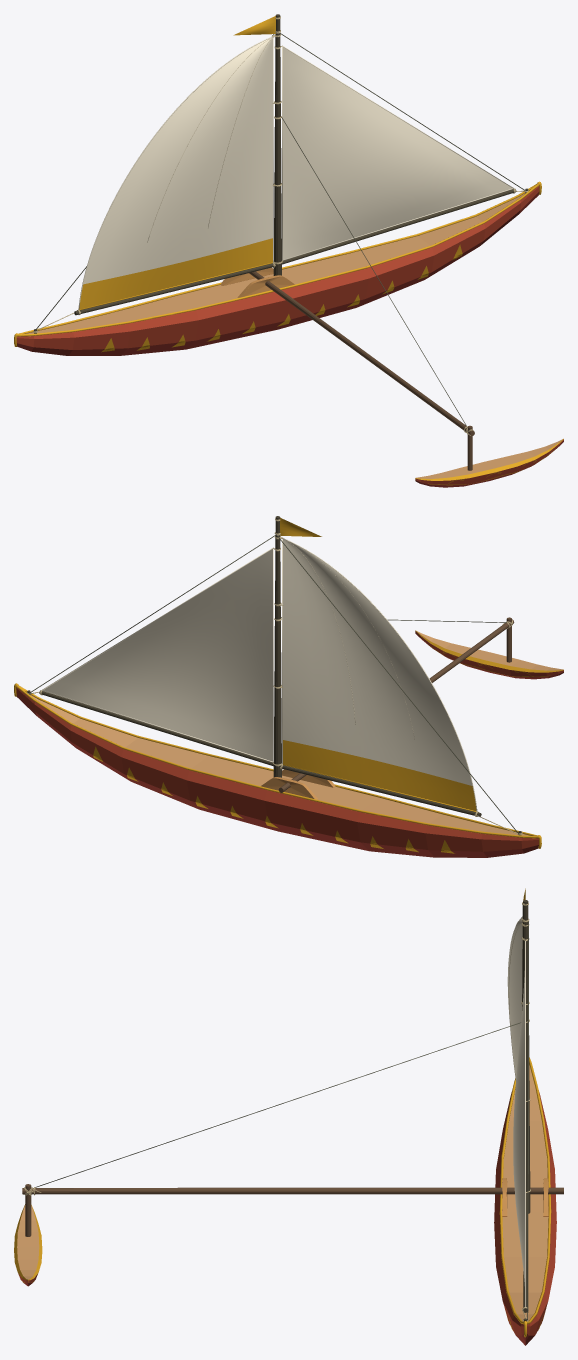
The model's file is 3d-jong-btam.glb.
The picture shows the model from 3 angles, top to bottom: view 1: azimuth 30°, elevation 25°; view 2: azimuth 150°, elevation 25°; view 3: azimuth 270°, elevation 25°; orthographic projection. The views are drawn at different scales.
Visible parts, largest first — view 1: Layar_Utama, Layar_Depan, Badan_Jong, Bibir_Lambung_Kuning, Pelampung, Tiang, Batang_Penyeimbang, Layar_Utama_Tepi, Tali_Pengikat, Batang_Layar_Depan, Layar_Depan_Tepi, Batang_Layar_Utama (+1 smaller); view 2: Layar_Utama, Layar_Depan, Badan_Jong, Bibir_Lambung_Kuning, Pelampung, Tiang, Tali_Pengikat, Layar_Utama_Tepi, Batang_Layar_Depan, Layar_Depan_Tepi, Batang_Layar_Utama, Motif_Lambung_Kanan (+2 smaller); view 3: Badan_Jong, Batang_Penyeimbang, Layar_Depan, Layar_Utama, Bibir_Lambung_Kuning, Pelampung, Tali_Pengikat, Tiang.
Part boxes in pixels (bbox=[...]): Layar_Utama: bbox=[79, 37, 272, 309]; Layar_Depan: bbox=[283, 47, 512, 259]; Badan_Jong: bbox=[16, 186, 539, 355]; Bibir_Lambung_Kuning: bbox=[14, 181, 541, 346]; Pelampung: bbox=[415, 438, 563, 487]; Tiang: bbox=[273, 14, 281, 275]; Batang_Penyeimbang: bbox=[249, 271, 474, 435]; Layar_Utama_Tepi: bbox=[78, 36, 273, 310]; Tali_Pengikat: bbox=[36, 33, 524, 426]; Batang_Layar_Depan: bbox=[282, 189, 516, 264]; Layar_Depan_Tepi: bbox=[282, 45, 513, 260]; Batang_Layar_Utama: bbox=[74, 263, 275, 315]; Layar_Utama: bbox=[283, 539, 476, 810]; Layar_Depan: bbox=[43, 549, 272, 761]; Badan_Jong: bbox=[16, 687, 538, 857]; Bibir_Lambung_Kuning: bbox=[14, 683, 541, 848]; Pelampung: bbox=[415, 630, 563, 679]; Tiang: bbox=[273, 516, 281, 777]; Tali_Pengikat: bbox=[28, 535, 519, 834]; Layar_Utama_Tepi: bbox=[282, 538, 477, 811]; Batang_Layar_Depan: bbox=[39, 690, 273, 766]; Layar_Depan_Tepi: bbox=[42, 548, 273, 762]; Batang_Layar_Utama: bbox=[280, 765, 481, 816]; Motif_Lambung_Kanan: bbox=[93, 746, 454, 853]; Badan_Jong: bbox=[494, 1065, 556, 1345]; Batang_Penyeimbang: bbox=[22, 1187, 563, 1194]; Layar_Depan: bbox=[513, 971, 524, 1285]; Layar_Utama: bbox=[507, 916, 522, 1079]; Bibir_Lambung_Kuning: bbox=[499, 1057, 551, 1337]; Pelampung: bbox=[14, 1204, 42, 1286]; Tali_Pengikat: bbox=[35, 921, 530, 1319]; Tiang: bbox=[522, 900, 530, 1213].
Size of the model in its own units: 1.21 by 0.688 by 0.929.
